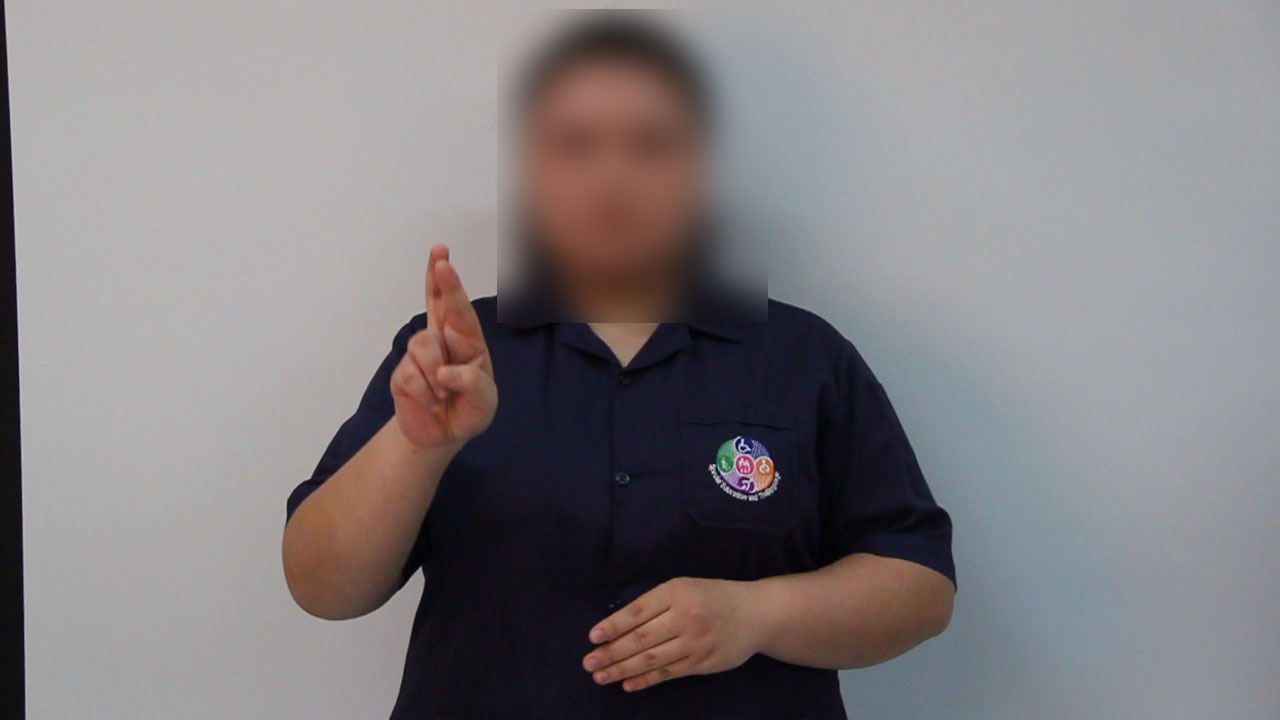rao: (382, 237, 501, 476)
